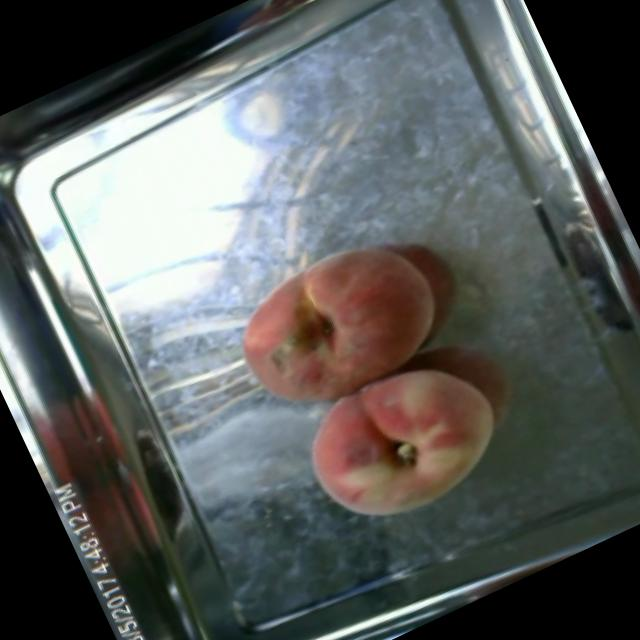Fruit: (206, 208, 467, 436), (279, 333, 526, 552)
